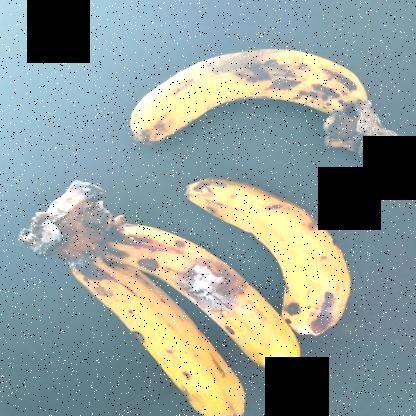overripe: (171, 152, 383, 335), (74, 257, 270, 415), (115, 225, 312, 375), (106, 43, 368, 149)
rotten: (149, 249, 270, 352)
